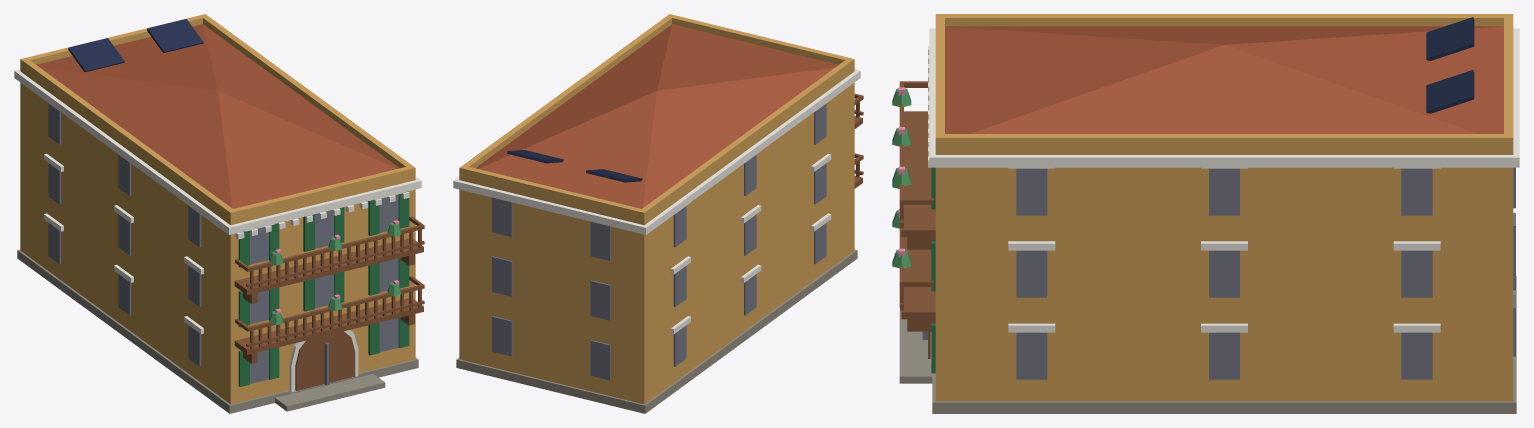
The model's file is house-1x2-3f-colonial-a-solar.glb.
The picture shows the model from 3 angles, left to right: view 1: azimuth 30°, elevation 25°; view 2: azimuth 150°, elevation 25°; view 3: azimuth 270°, elevation 25°; orthographic projection. The views are drawn at different scales.
Visible parts, largest first — view 1: house-1x2-3f-colonial-a-solar; view 2: house-1x2-3f-colonial-a-solar; view 3: house-1x2-3f-colonial-a-solar.
Boxes of the visible parts, x1=… form: house-1x2-3f-colonial-a-solar: x1=14, y1=14, x2=424, y2=413; house-1x2-3f-colonial-a-solar: x1=453, y1=14, x2=863, y2=413; house-1x2-3f-colonial-a-solar: x1=892, y1=14, x2=1519, y2=413.
Size of the model in its own units: 0.98 by 1.08 by 2.01.
1 material, 1 textured.
